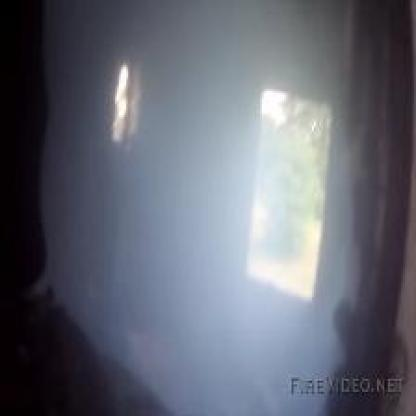other: (76, 43, 152, 154)
